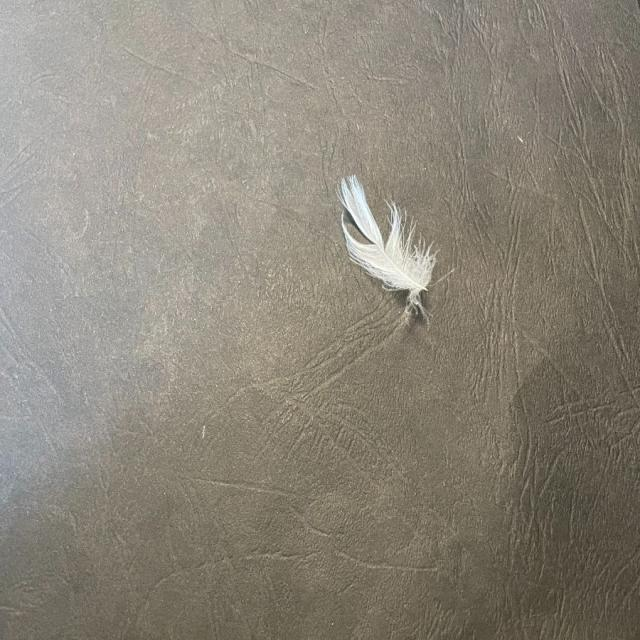feather: (334, 170, 444, 328)
